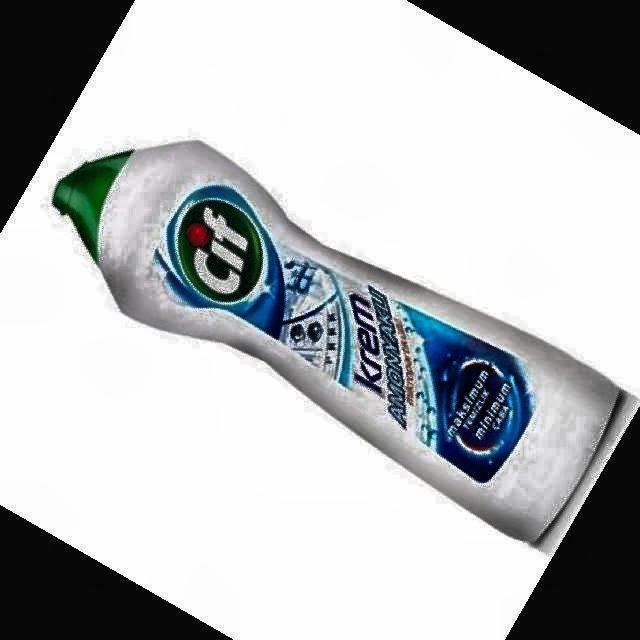plastic: (52, 142, 620, 542)
